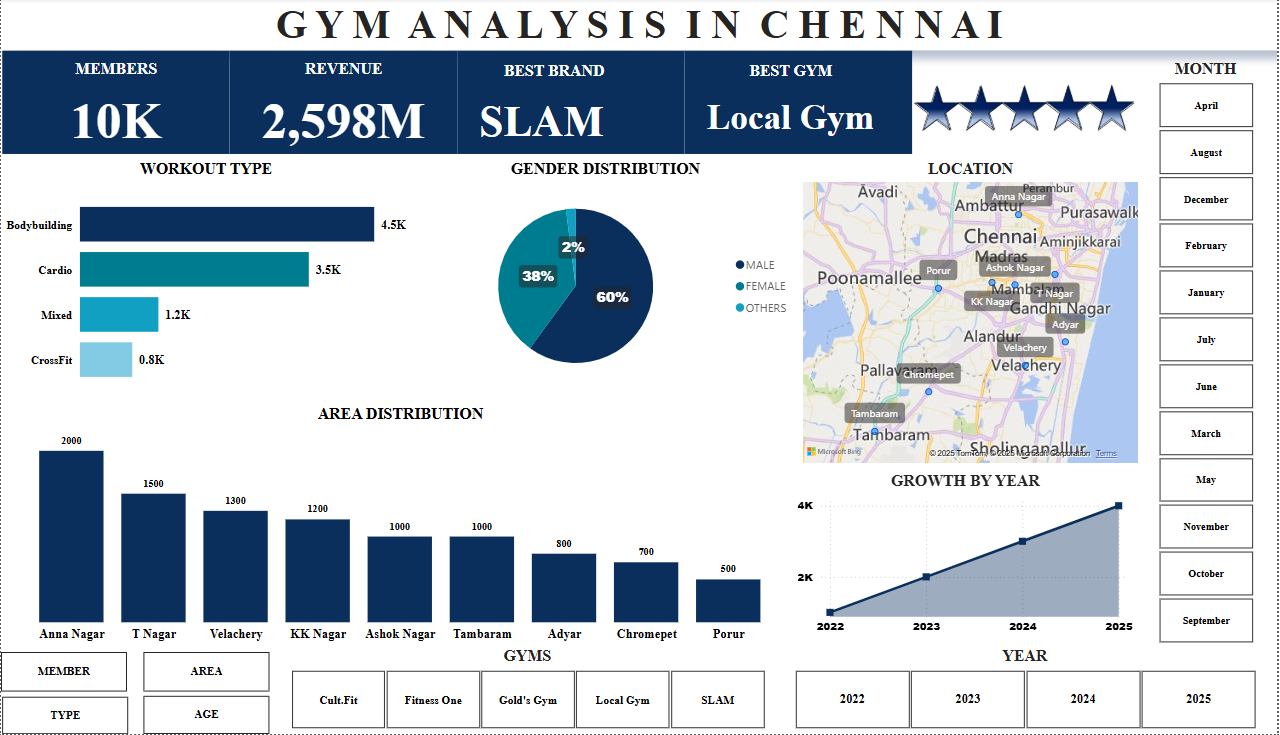

This screenshot's page, from the dashboard's own definition file:
{"tool":"powerbi","page":{"name":"Page 1","canvas":[1500,865],"ordinal":0},"visuals":[{"type":"slicer","title":"YEAR","fields":{"Values":["DATE.year"]},"box":[905,756.6,590.6,107.2],"z":0},{"type":"card","title":"MEMBERS","fields":{"Values":["MEASURE.total memebers"]},"box":[1.5,61.7,267.4,121.9],"z":1000},{"type":"slicer","title":"MONTH","fields":{"Values":["DATE.Month"]},"box":[1335.4,67.6,160.1,696.4],"z":2000},{"type":"columnChart","title":"AREA DISTRIBUTION","fields":{"Category":["Sheet1.Location"],"Y":["CountNonNull(Sheet1.Number of Members)"]},"box":[0,465.7,935.8,290.9],"z":3000},{"type":"tableEx","fields":{"Values":["Sheet1.Gym Brand"]},"box":[536.2,61.7,267.4,121.9],"z":4000},{"type":"card","title":"REVENUE","fields":{"Values":["MEASURE.TOTAL REVENUE"]},"box":[268.8,61.7,267.4,121.9],"z":5000},{"type":"slicer","title":"GYMS","fields":{"Values":["Sheet1.Gym Brand"]},"box":[315.9,758.1,605.3,107.2],"z":6000},{"type":"tableEx","fields":{"Values":["Sheet1.Gym Brand"]},"box":[803.6,61.7,267.4,121.9],"z":7000},{"type":"image","box":[1069.5,67.6,267.4,121.9],"z":8000},{"type":"barChart","fields":{"Y":["MEASURE.DIFFERENCE RATING"]},"box":[1069.5,25,267.4,196.9],"z":9000},{"type":"image","box":[1068,67.6,268.8,123.4],"z":10000},{"type":"barChart","title":"MEMBERSHIP PLAN","fields":{"Category":["Sheet1.Membership Plan"],"Y":["CountNonNull(Sheet1.Number of Members)"]},"box":[0,185.1,481.9,287.9],"z":11000},{"type":"barChart","title":"WORKOUT TYPE","fields":{"Y":["CountNonNull(Sheet1.Number of Members)"],"Category":["Sheet1.Type"]},"box":[0,185.1,481.9,287.9],"z":12000},{"type":"actionButton","title":"MEMBERSHIP","box":[0,763.9,148.4,51.4],"z":13000},{"type":"actionButton","title":"TYPE","box":[1.5,821.2,148.4,44.1],"z":14000},{"type":"map","title":"LOCATION","fields":{"Category":["Sheet1.Location"]},"box":[937.3,185.1,404,367.3],"z":15000},{"type":"pieChart","title":"GENDER DISTRIBUTION","fields":{"Y":["MEASURE.MALE","MEASURE.FEMALE","MEASURE.OTHERS"]},"box":[483.3,185.1,454,280.6],"z":16000},{"type":"actionButton","title":"MEMBERSHIP","box":[167.5,815.3,148.4,49.9],"z":18000},{"type":"actionButton","title":"MEMBERSHIP","box":[167.5,763.9,148.4,51.4],"z":19000},{"type":"lineChart","title":"GROWTH BY YEAR","fields":{"Category":["DATE.year"],"Y":["CountNonNull(Sheet1.Number of Members)"]},"box":[931.4,552.4,404,205.7],"z":20000},{"type":"card","fields":{"Values":["MEASURE.TITLE"]},"box":[0,0,1499.9,61.7],"z":21000}]}

Visuals, with their boxes in screenshot pixels (x1, y1, x2, y2), scaled from the page's 1500x865 canvas onto the 1280x735 screenshot:
"YEAR" slicer: 772,643,1276,734
"MEMBERS" card: 1,52,229,156
"MONTH" slicer: 1140,57,1276,649
"AREA DISTRIBUTION" columnChart: 0,396,799,643
tableEx - Sheet1.Gym Brand: 458,52,686,156
"REVENUE" card: 229,52,458,156
"GYMS" slicer: 270,644,786,734
tableEx - Sheet1.Gym Brand: 686,52,914,156
image: 913,57,1141,161
barChart - MEASURE.DIFFERENCE RATING: 913,21,1141,189
image: 911,57,1141,162
"MEMBERSHIP PLAN" barChart: 0,157,411,402
"WORKOUT TYPE" barChart: 0,157,411,402
"MEMBERSHIP" actionButton: 0,649,127,693
"TYPE" actionButton: 1,698,128,734
"LOCATION" map: 800,157,1145,469
"GENDER DISTRIBUTION" pieChart: 412,157,800,396
"MEMBERSHIP" actionButton: 143,693,270,734
"MEMBERSHIP" actionButton: 143,649,270,693
"GROWTH BY YEAR" lineChart: 795,469,1140,644
card - MEASURE.TITLE: 0,0,1279,52
